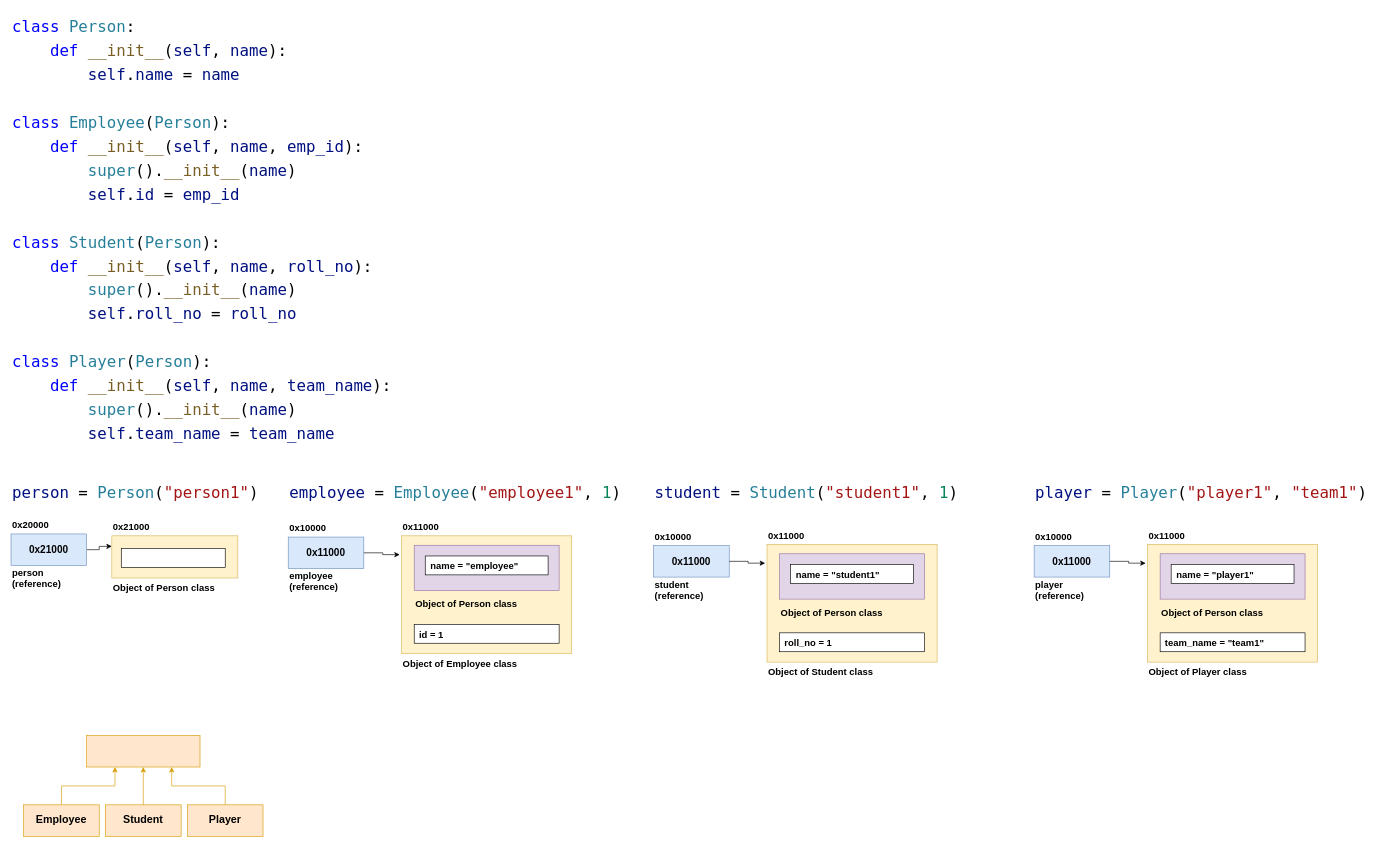
The diagram is 1398 pixels wide and 847 high, and some of its shapes have lost their labels. Here are the shapes that lost their labels. From the top down, the box of each, then its label:
(121, 548, 225, 567): name = "person1"
(86, 735, 200, 767): Person
